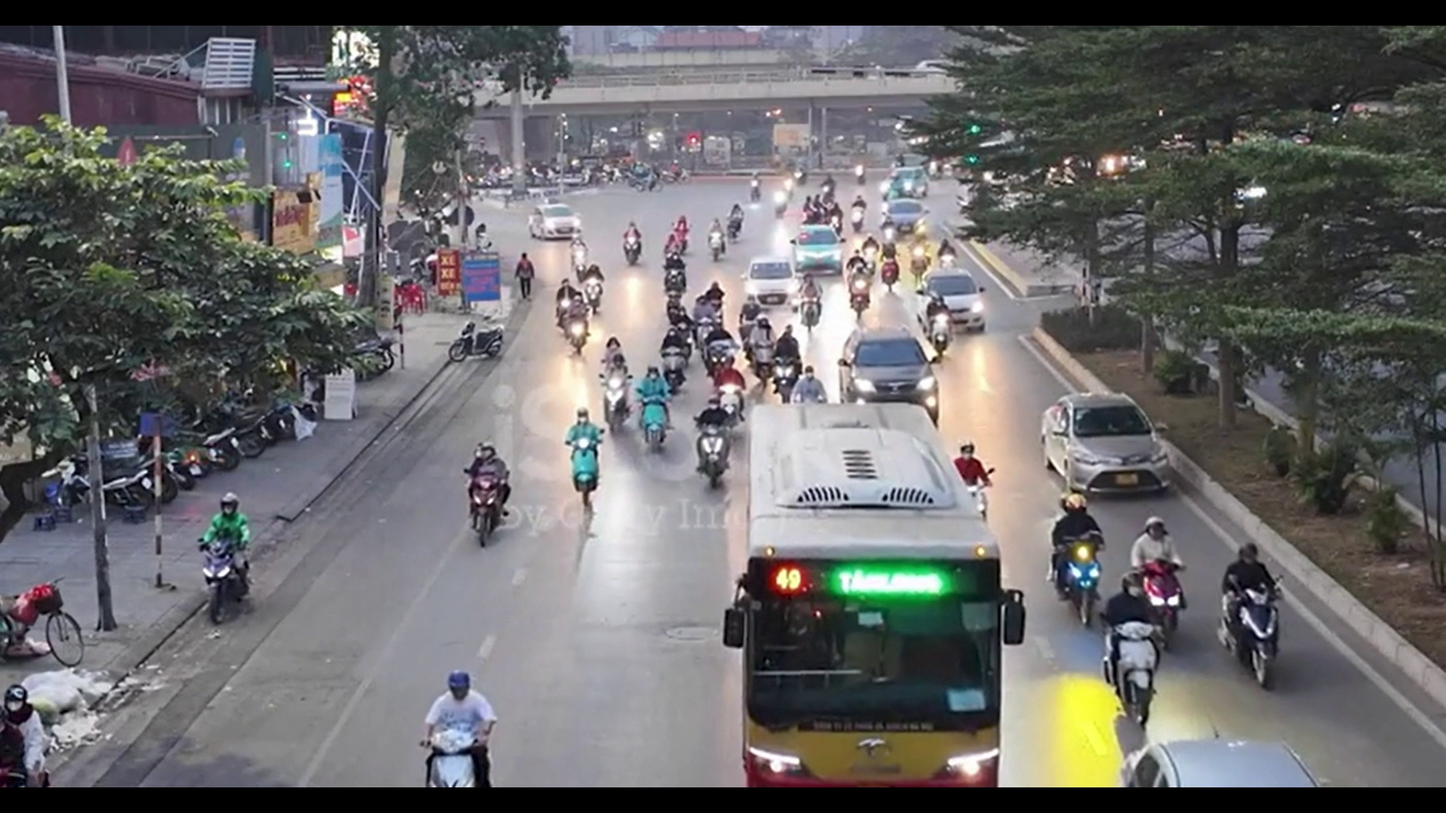bus: (723, 404, 1006, 783)
car: (1042, 387, 1173, 498), (1123, 735, 1322, 786), (845, 331, 931, 404), (923, 270, 988, 335), (743, 255, 800, 311), (793, 226, 843, 278), (531, 208, 583, 242)
motorcycle: (0, 580, 86, 669), (1221, 580, 1285, 688), (1053, 533, 1105, 628), (200, 546, 253, 625), (695, 404, 740, 491), (465, 489, 510, 549)
